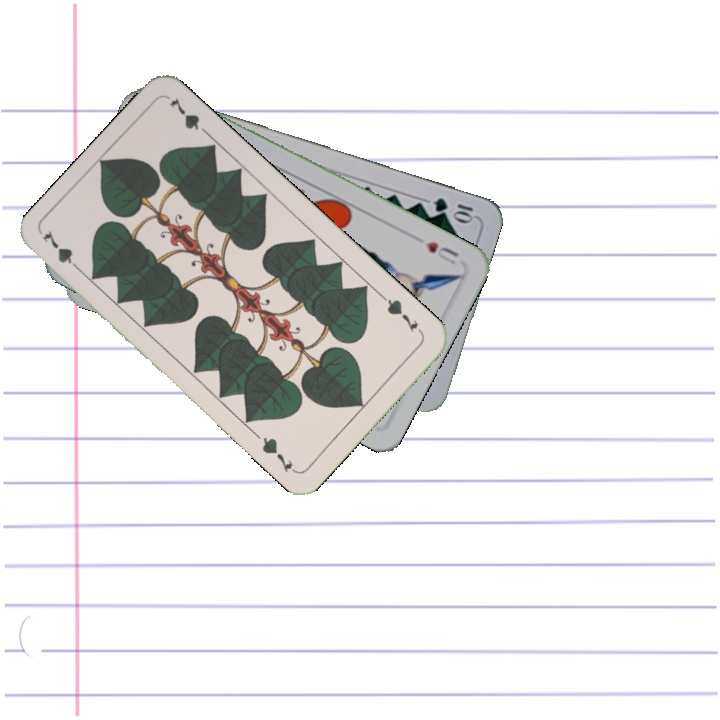G10: (429, 193, 477, 224)
G7: (38, 226, 86, 277), (378, 292, 425, 337)
HU: (422, 237, 462, 267)
